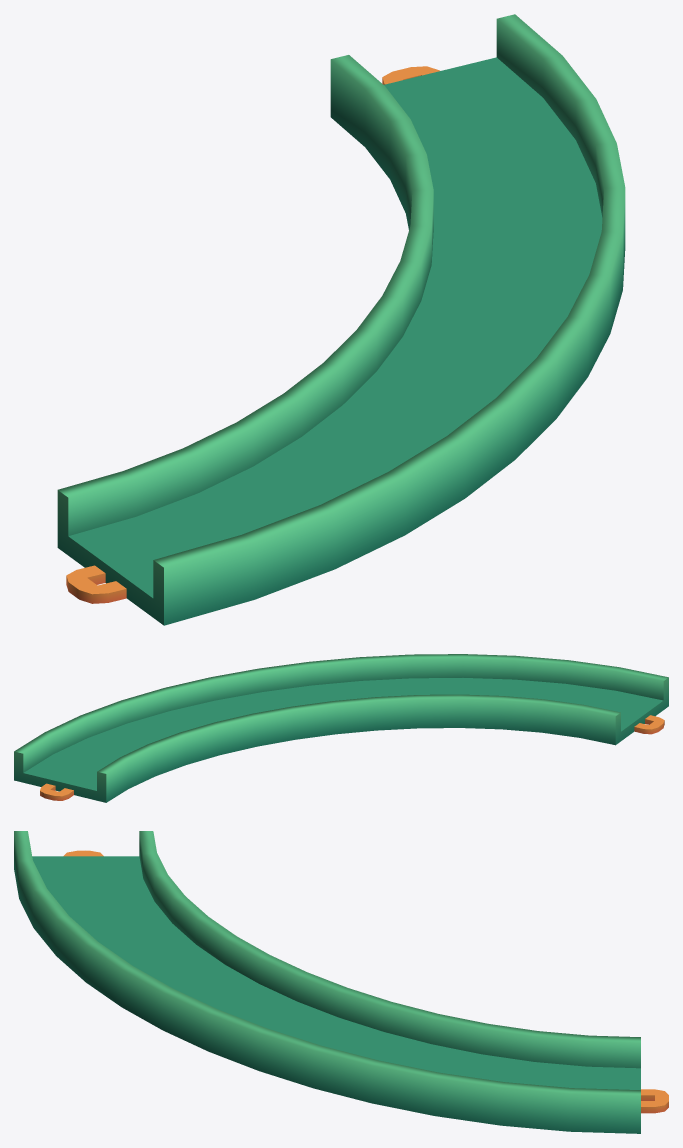
The model's file is track-narrow-corner-large.fbx.
3 views of the same model, one above another, from view 1: azimuth 30°, elevation 25°; view 2: azimuth 150°, elevation 25°; view 3: azimuth 270°, elevation 25° (orthographic). The views are drawn at different scales.
Parts seen in each view (by area): view 1: track-narrow-corner-large; view 2: track-narrow-corner-large; view 3: track-narrow-corner-large.
Boxes of the visible parts, box(x1,y1,x2,y2) form: track-narrow-corner-large: box(57, 14, 625, 625); track-narrow-corner-large: box(14, 654, 668, 802); track-narrow-corner-large: box(14, 831, 668, 1133).
Bounding box in the file's own units: 470 × 30 × 470.
